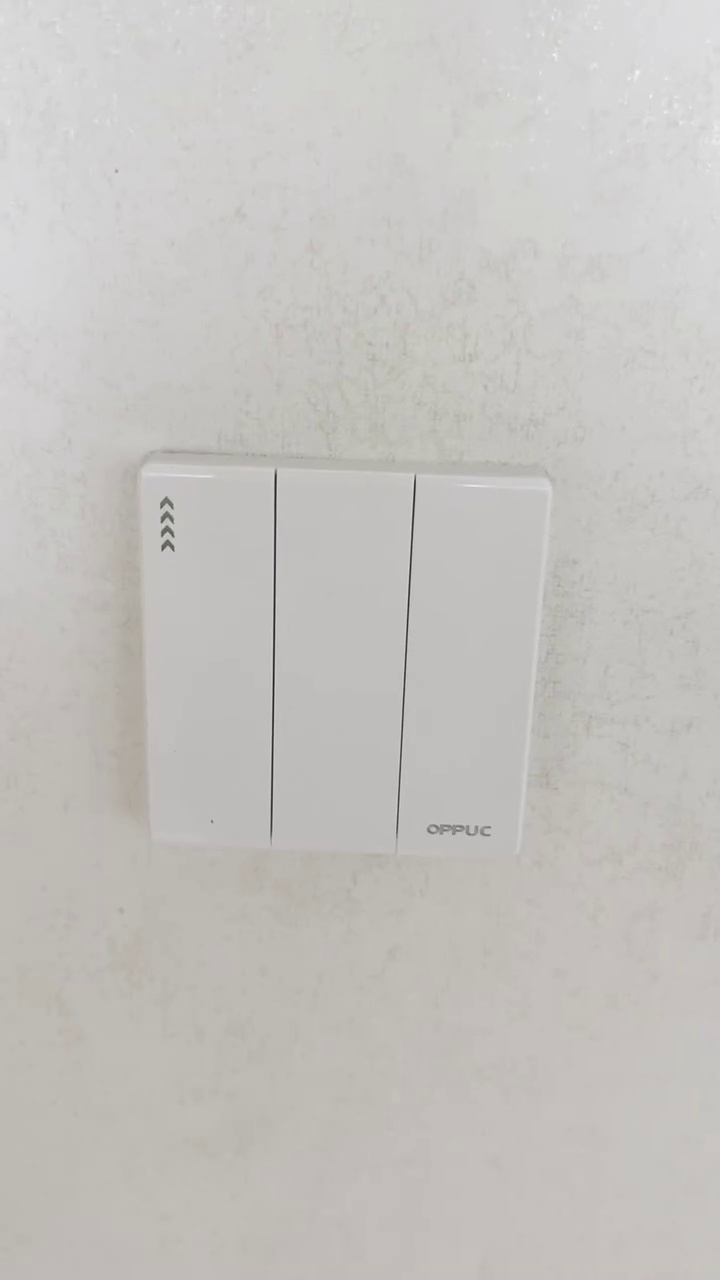button1: (397, 475, 542, 858), (271, 466, 413, 850), (142, 470, 279, 844)
